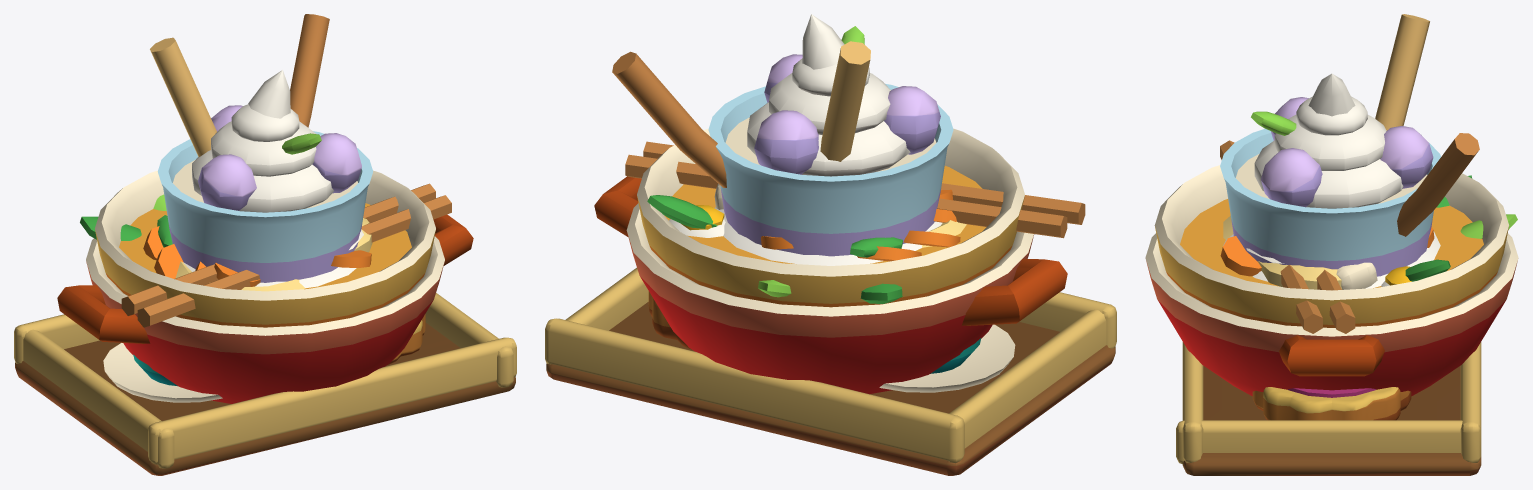
The model's file is items_food-hall.glb.
3 renders of one model, left to right at view 1: azimuth 30°, elevation 25°; view 2: azimuth 150°, elevation 25°; view 3: azimuth 270°, elevation 25°, orthographic. The views are drawn at different scales.
Parts seen in each view (by area): view 1: foo-teatray, foo-fruitcup, foo-noodlebowl, foo-soup, foo-ricebowl; view 2: foo-teatray, foo-fruitcup, foo-noodlebowl, foo-soup, foo-ricebowl; view 3: foo-fruitcup, foo-soup, foo-teatray, foo-noodlebowl, foo-ricebowl.
Boxes of the visible parts, box(x1,y1,x2,y2) form: foo-teatray: box(14, 293, 516, 475); foo-fruitcup: box(150, 37, 373, 282); foo-noodlebowl: box(80, 183, 451, 403); foo-soup: box(57, 14, 473, 343); foo-ricebowl: box(143, 226, 363, 288); foo-teatray: box(545, 267, 1116, 475); foo-fruitcup: box(708, 14, 953, 256); foo-noodlebowl: box(625, 141, 1085, 394); foo-soup: box(594, 51, 1067, 325); foo-ricebowl: box(647, 195, 960, 265); foo-fruitcup: box(1220, 14, 1440, 276); foo-soup: box(1154, 133, 1509, 376); foo-teatray: box(1176, 342, 1481, 475); foo-noodlebowl: box(1145, 140, 1518, 396); foo-ricebowl: box(1223, 231, 1450, 288).
Bounding box in the file's own units: 0.4801 × 0.4063 × 0.4.
